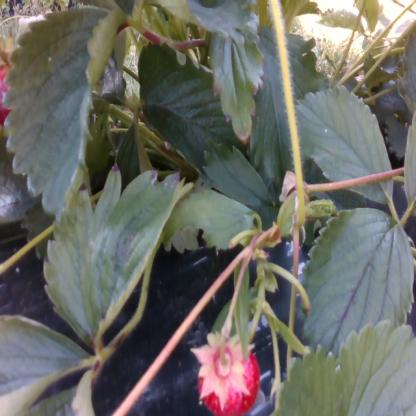ripe: (192, 343, 262, 416)
